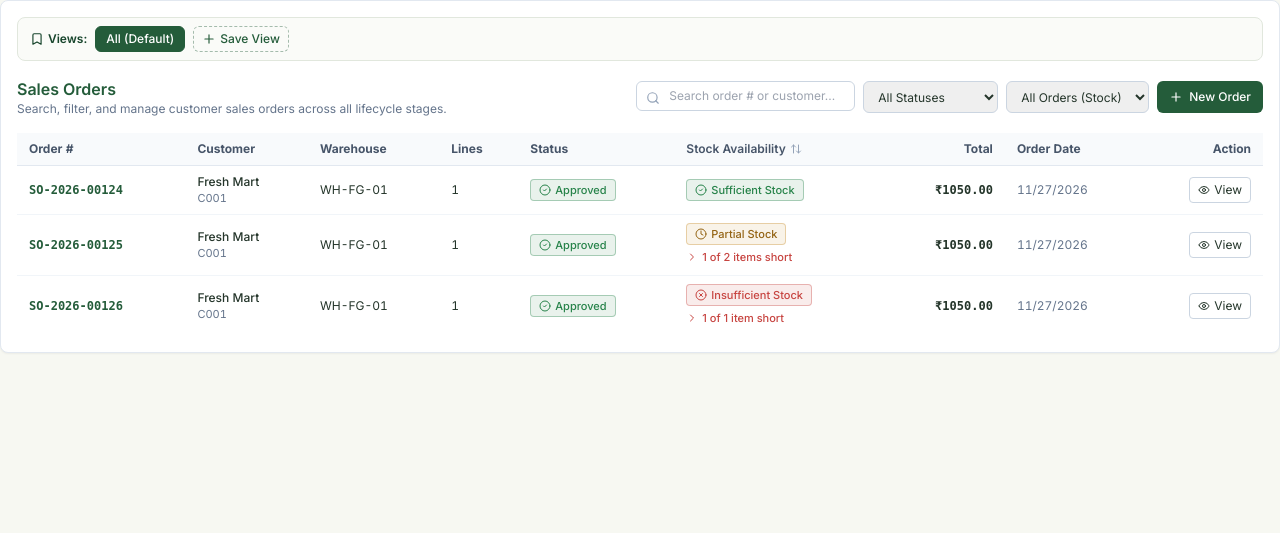
Test: Sales Order List Stock Visibility Frontend Suite › 1-5. Displays Stock Availability column, status badges, and expandable shortage details
Expected: the link "SO-2026-00124" is shown, x1=29 y1=183 x2=123 y2=197
Expected: the button "Stock Availability" is shown, x1=674 y1=133 x2=888 y2=165
What coordinates should you click on to do the following:
click the button "1 of 2 items short"
I would click on:
 (739, 257)
Its box is x1=686 y1=249 x2=792 y2=265.
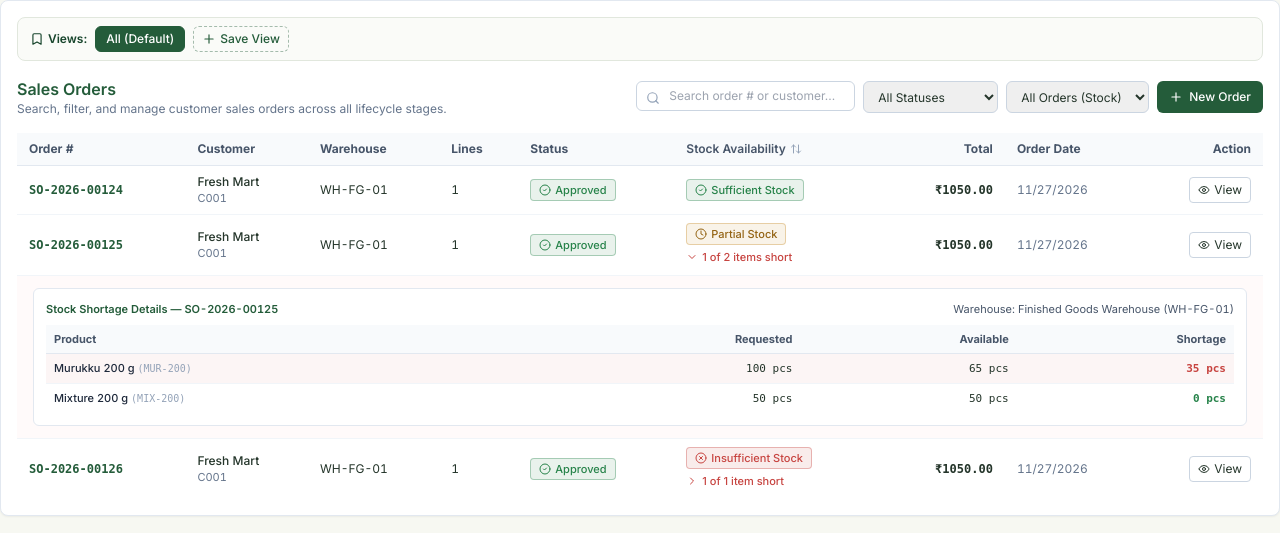
Expected: the text "Murukku 200 g (MUR-200)" is shown, x1=46 y1=354 x2=556 y2=384
Expected: the text "100 pcs" is shown, x1=556 y1=354 x2=800 y2=384
Expected: the text "65 pcs" is shown, x1=800 y1=354 x2=1017 y2=384
